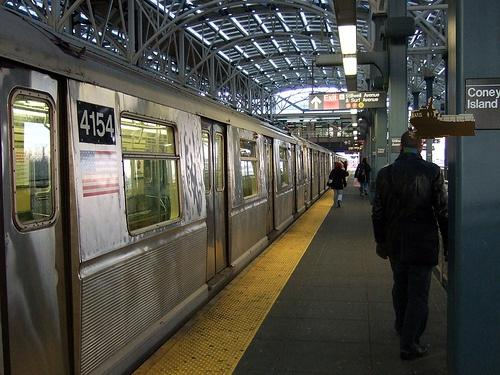tampered: (410, 97, 475, 139)
